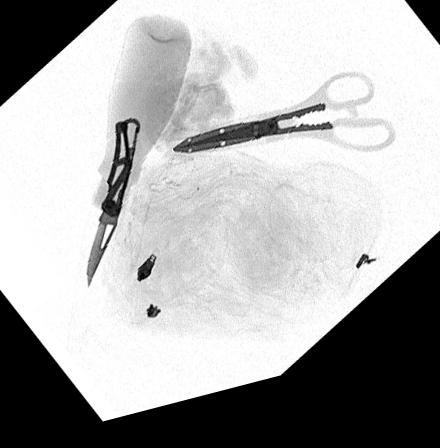Knife: (85, 123, 141, 293)
Scissors: (170, 88, 393, 174)
